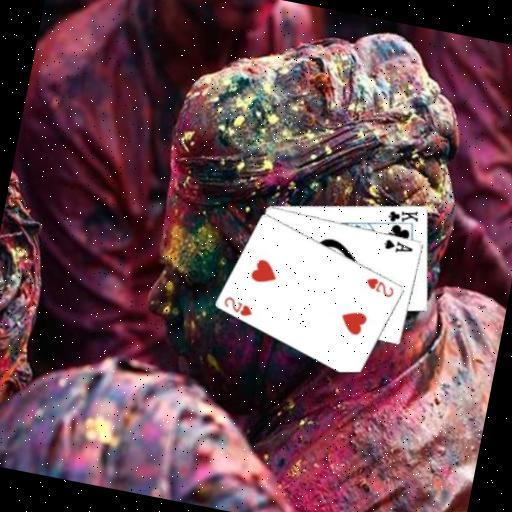2H: (361, 273, 398, 300), (219, 293, 256, 320)
AS: (380, 235, 416, 257)
KC: (382, 202, 422, 232)
